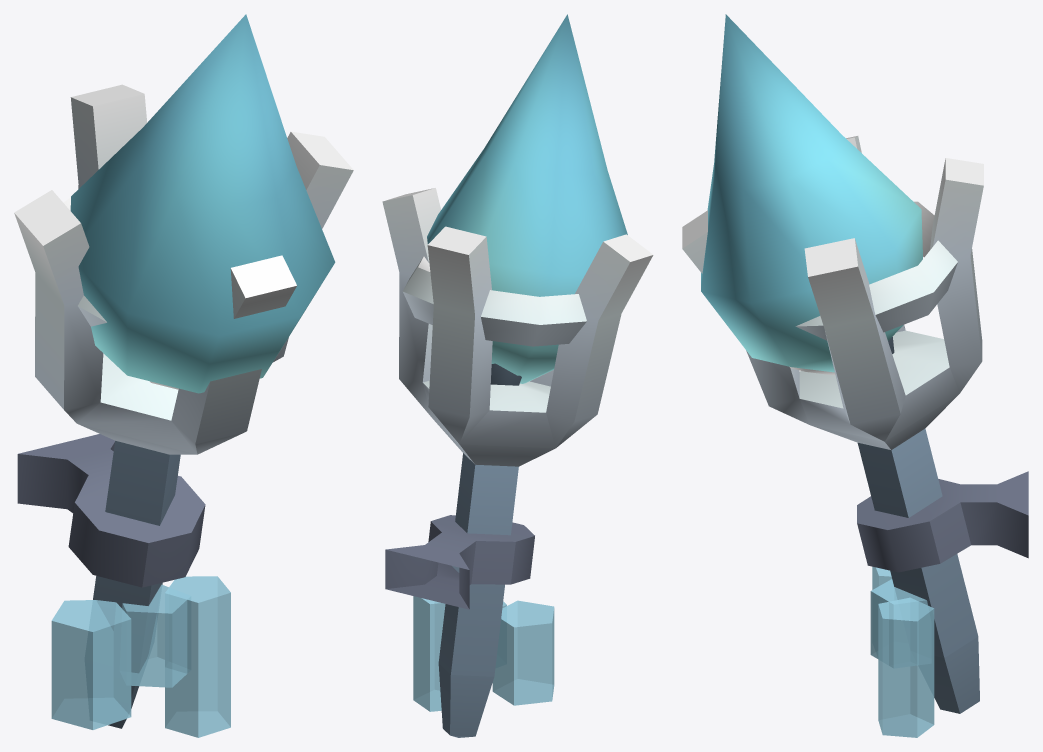
The model's file is torch.fbx.
3 renders of one model, left to right at view 1: azimuth 30°, elevation 25°; view 2: azimuth 150°, elevation 25°; view 3: azimuth 270°, elevation 25°, orthographic. The views are drawn at different scales.
Parts seen in each view (by area): view 1: torch; view 2: torch; view 3: torch.
Part boxes in pixels (box(x1,y1,x2,y2)): torch: box(14, 14, 353, 737); torch: box(382, 14, 653, 737); torch: box(682, 14, 1028, 737).
Size of the model in its own units: 0.7979 by 1.98 by 0.893.
